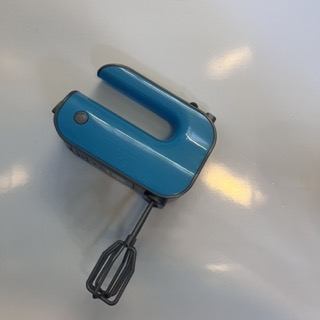mixer: (51, 63, 218, 307)
